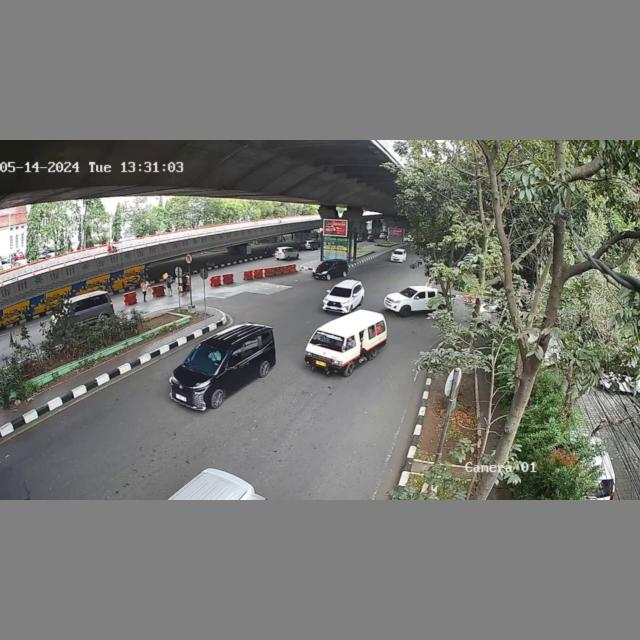windshield: (189, 344, 229, 376), (311, 329, 346, 353), (331, 285, 353, 299)
